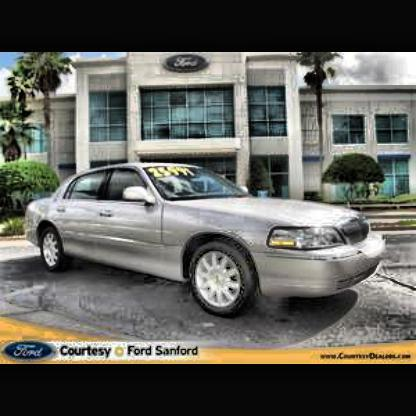Lincoln Town Car Sedan 2011: (19, 160, 392, 327)
